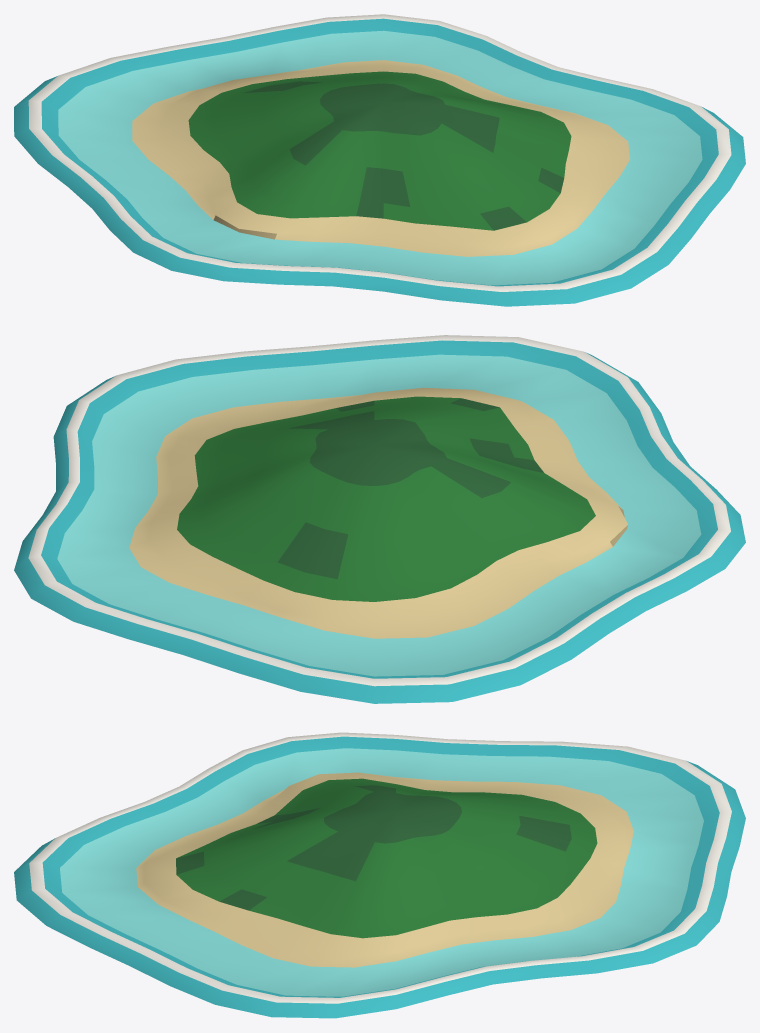
File: island.glb
3 views of the same model, one above another, from view 1: azimuth 30°, elevation 25°; view 2: azimuth 150°, elevation 25°; view 3: azimuth 270°, elevation 25° (orthographic). The views are drawn at different scales.
Visible parts, largest first — view 1: body; view 2: body; view 3: body.
Part boxes in pixels (x1,y1,x2,y2): body: (14, 14, 745, 306); body: (14, 335, 745, 703); body: (14, 732, 745, 1018).
Bounding box in the file's own units: 88.61 × 9 × 97.01.
